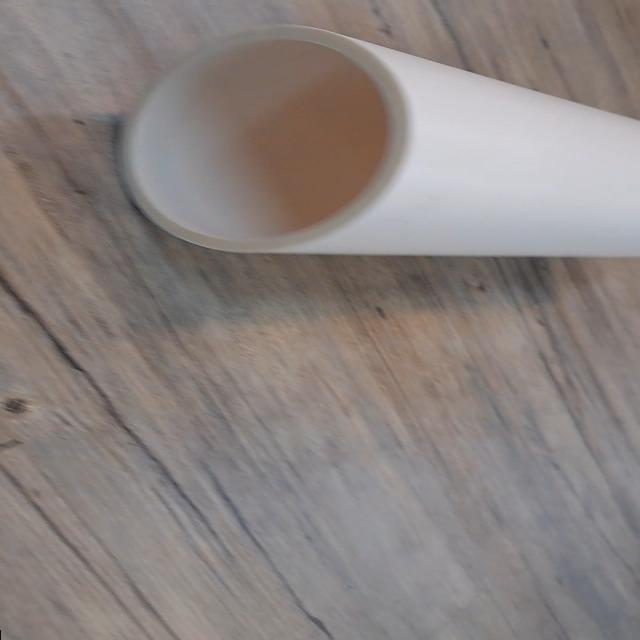CORAL: (113, 2, 640, 316)
